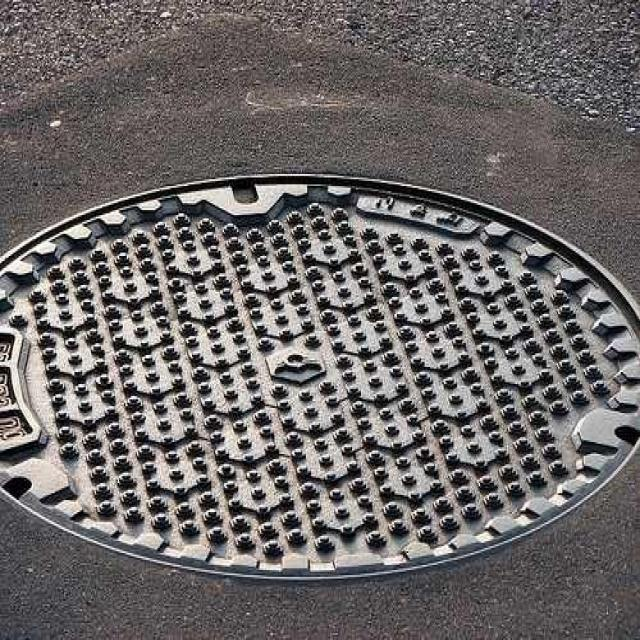manhole: (0, 175, 640, 579)
